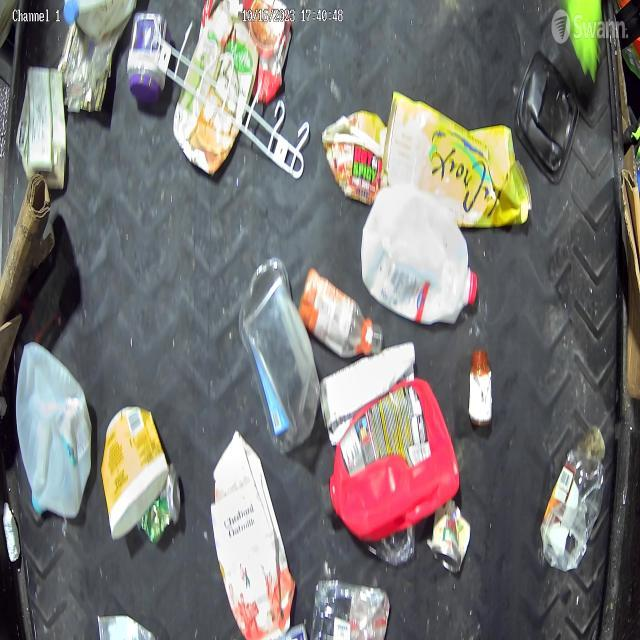can: (138, 470, 180, 542)
milk_jug: (364, 184, 474, 326), (16, 339, 94, 520)
non_white_jug: (330, 378, 460, 540)
plastic_bottle: (534, 427, 612, 573), (300, 261, 385, 350)
